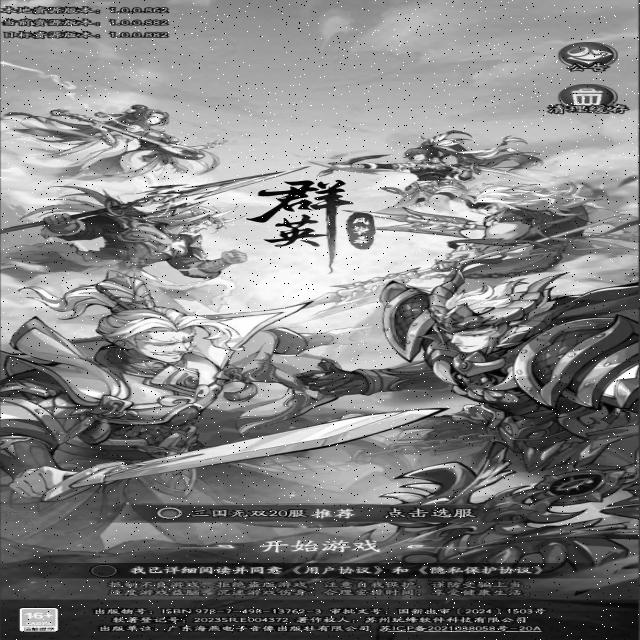operation-enter: (258, 536, 393, 556)
system-cleanUpCache: (552, 84, 632, 116)
system-notices: (557, 42, 617, 72)
system-protocol-box: (129, 566, 285, 578), (88, 563, 121, 579)
